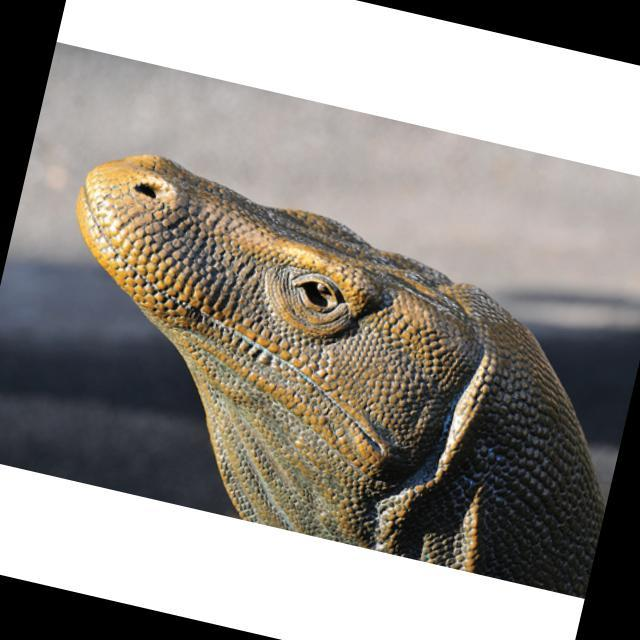KomodoDragon: (13, 137, 640, 594)
